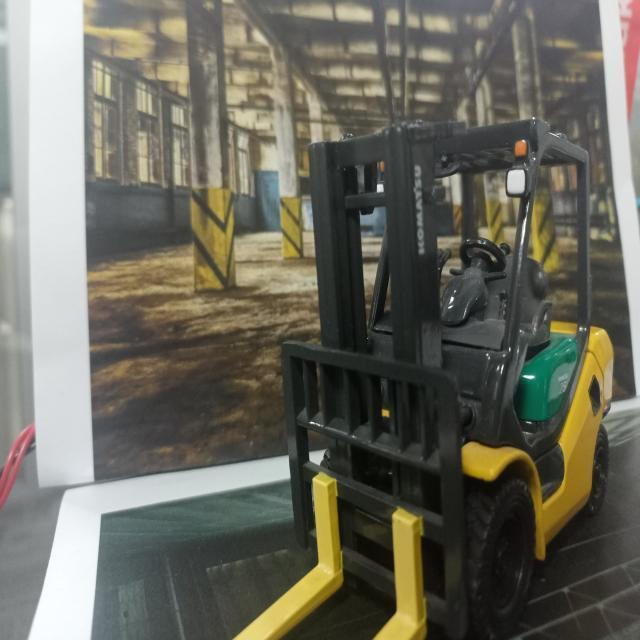forklift: (296, 121, 607, 627)
